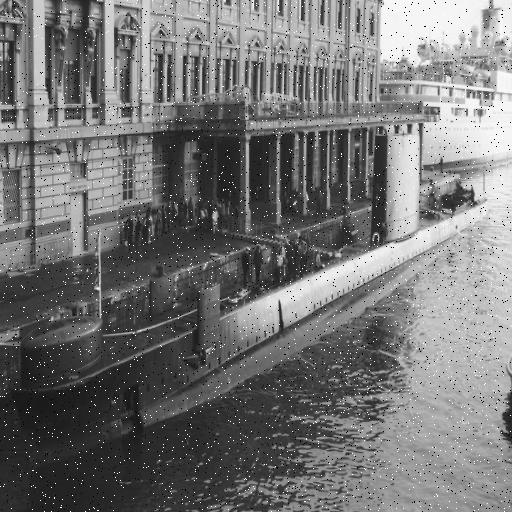submarine: (10, 123, 490, 479)
